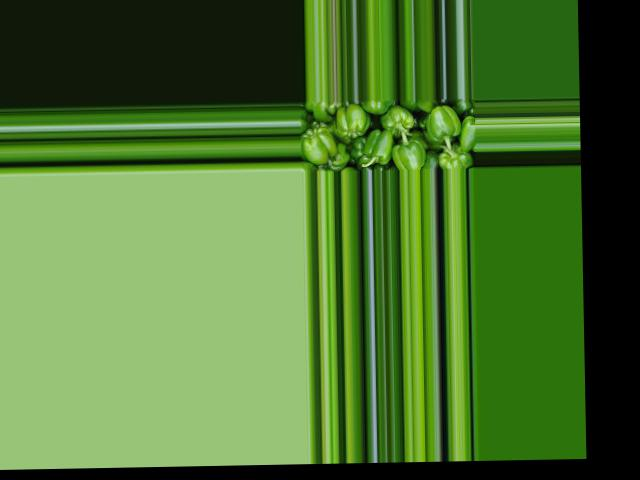bell_pepper: (299, 98, 474, 170)
